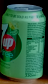sevenup: (1, 5, 46, 83)
